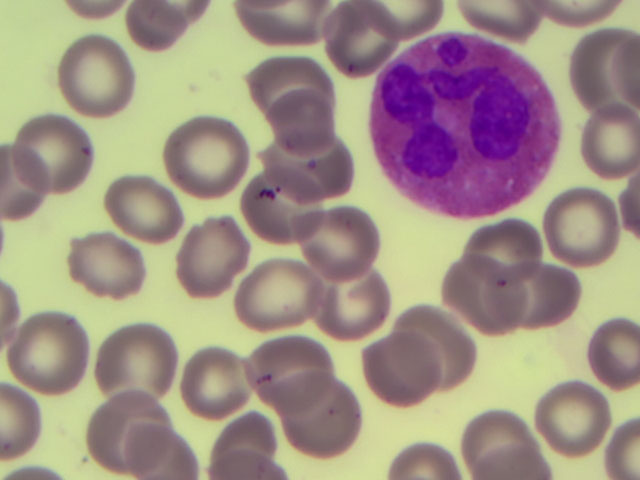RBC: (574, 24, 640, 176), (54, 35, 138, 116), (11, 115, 95, 196), (104, 169, 188, 250), (162, 114, 246, 195), (251, 57, 335, 138), (267, 128, 351, 209), (241, 172, 325, 253), (298, 196, 382, 277), (312, 264, 396, 345), (232, 259, 316, 340), (171, 212, 255, 293), (71, 225, 155, 306), (7, 314, 91, 395), (98, 318, 182, 399), (83, 397, 167, 478), (173, 331, 257, 412), (248, 327, 332, 408), (278, 377, 362, 458), (353, 331, 437, 412), (408, 300, 492, 381), (439, 254, 523, 335), (458, 203, 542, 284), (512, 258, 596, 339), (542, 184, 626, 265), (556, 306, 640, 387), (533, 377, 617, 458), (452, 399, 536, 480), (198, 399, 282, 480), (136, 399, 220, 480), (234, 1, 314, 61)
WBC: (372, 27, 557, 219)
